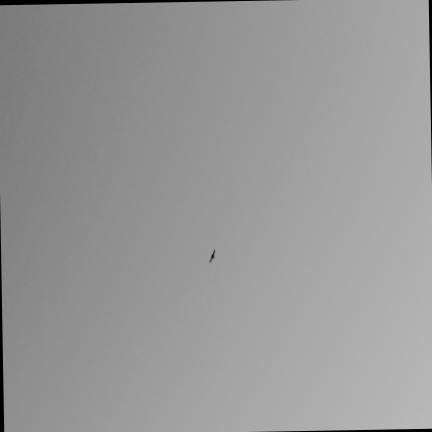Shahed: (207, 247, 216, 262)
